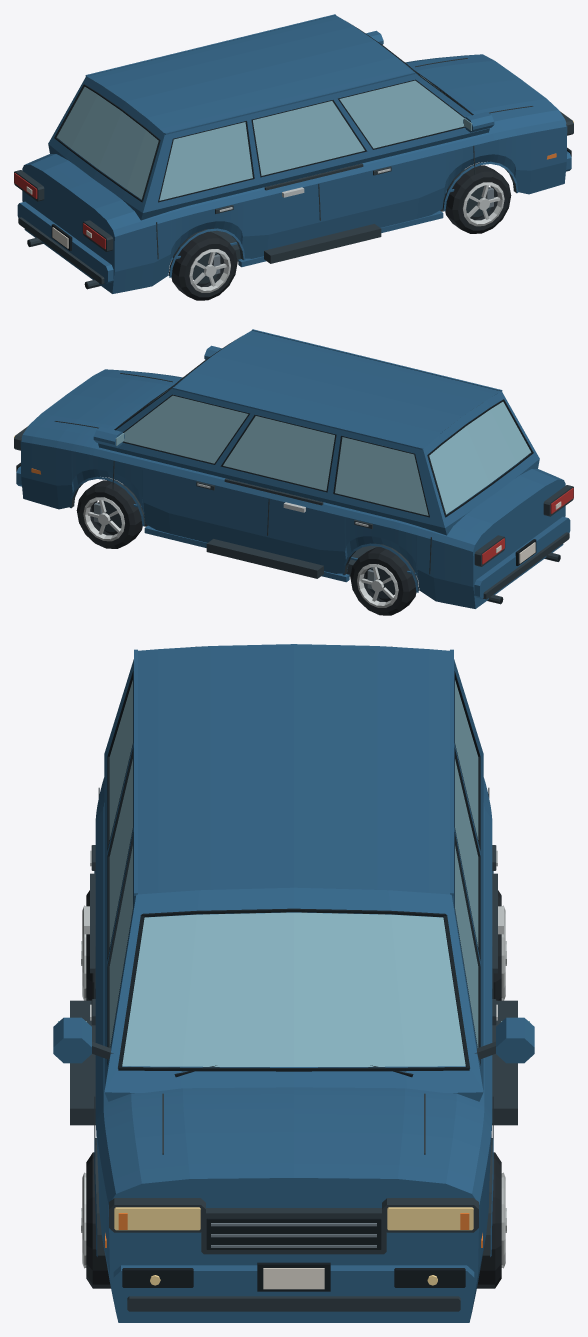
File: b03_family_minivan.glb
The picture shows the model from 3 angles, top to bottom: view 1: azimuth 30°, elevation 25°; view 2: azimuth 150°, elevation 25°; view 3: azimuth 270°, elevation 25°; orthographic projection. The views are drawn at different scales.
Visible parts, largest first — view 1: b03_family_minivan; view 2: b03_family_minivan; view 3: b03_family_minivan.
Boxes of the visible parts, x1,y1,x2,y2 form: b03_family_minivan: (14,14,573,300); b03_family_minivan: (14,329,573,615); b03_family_minivan: (53,644,534,1322).
Bounding box in the file's own units: 5.34 × 1.83 × 2.36.
